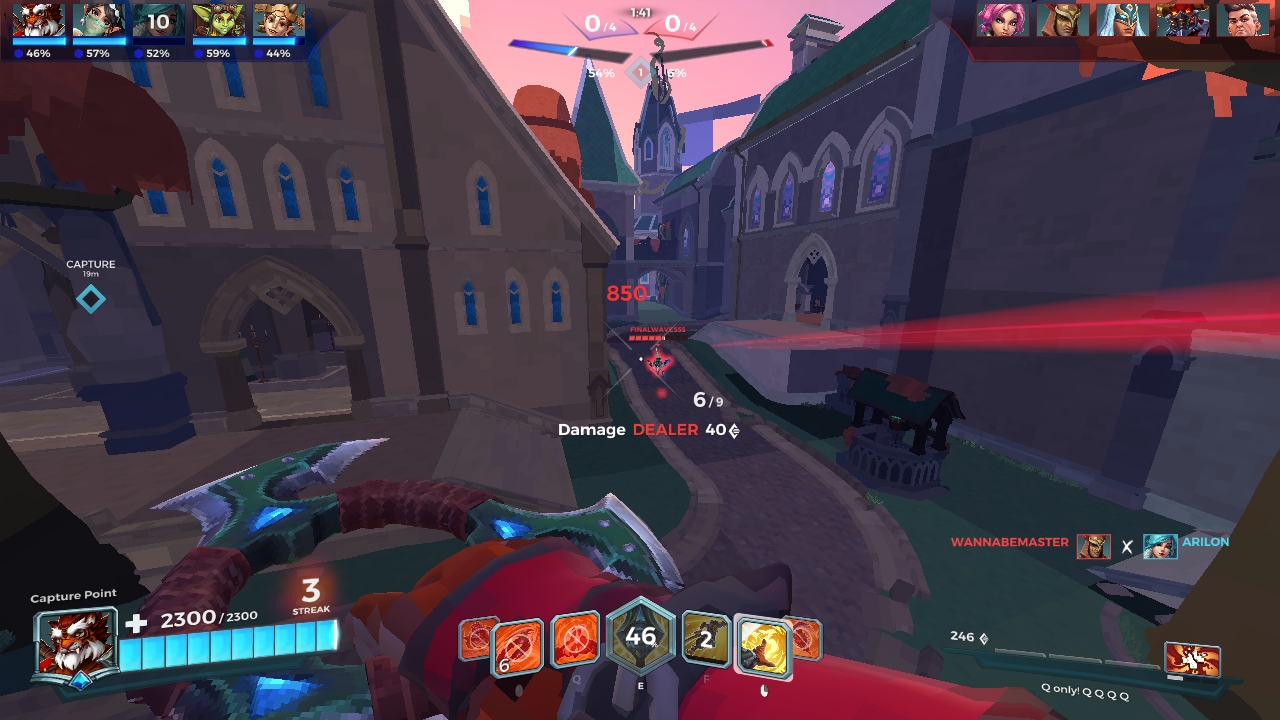model: (644, 346, 670, 380)
